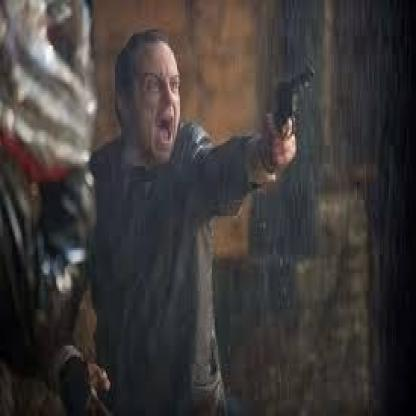Pistol: (265, 57, 322, 139)
